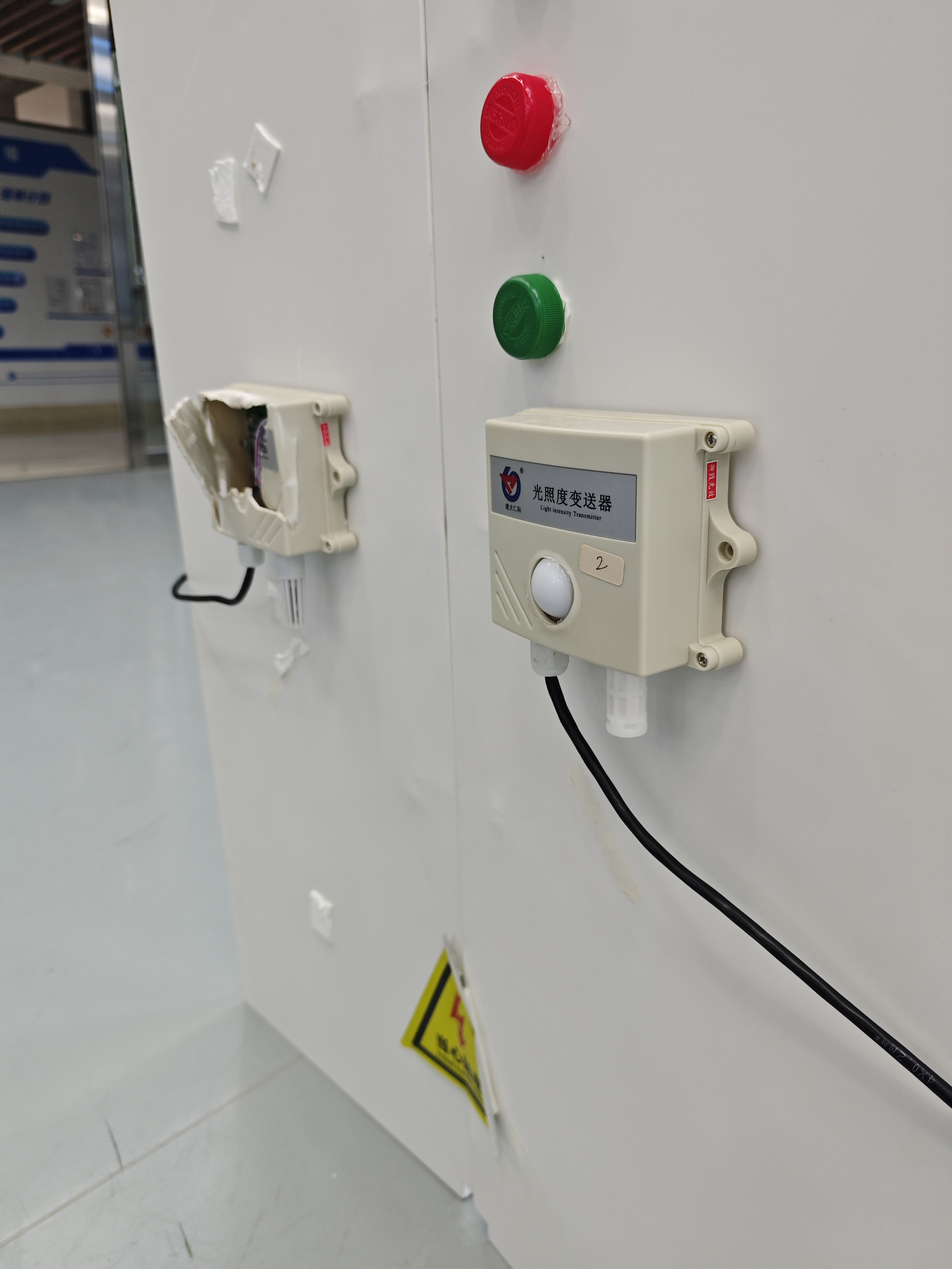red_warning: (455, 44, 627, 220)
sensor_damage: (154, 361, 388, 655)
